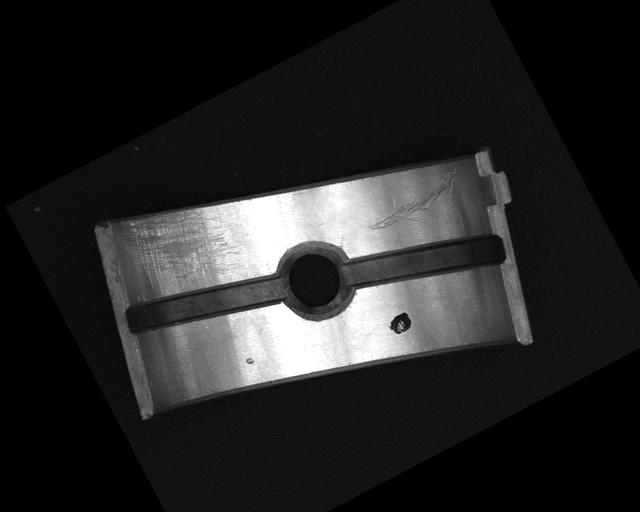blot: (385, 309, 416, 338)
bruise: (243, 355, 256, 366)
gap: (337, 192, 513, 333), (119, 239, 290, 370)
hole: (264, 228, 365, 329)
nick: (360, 167, 476, 255)
scratch: (115, 181, 248, 312)
